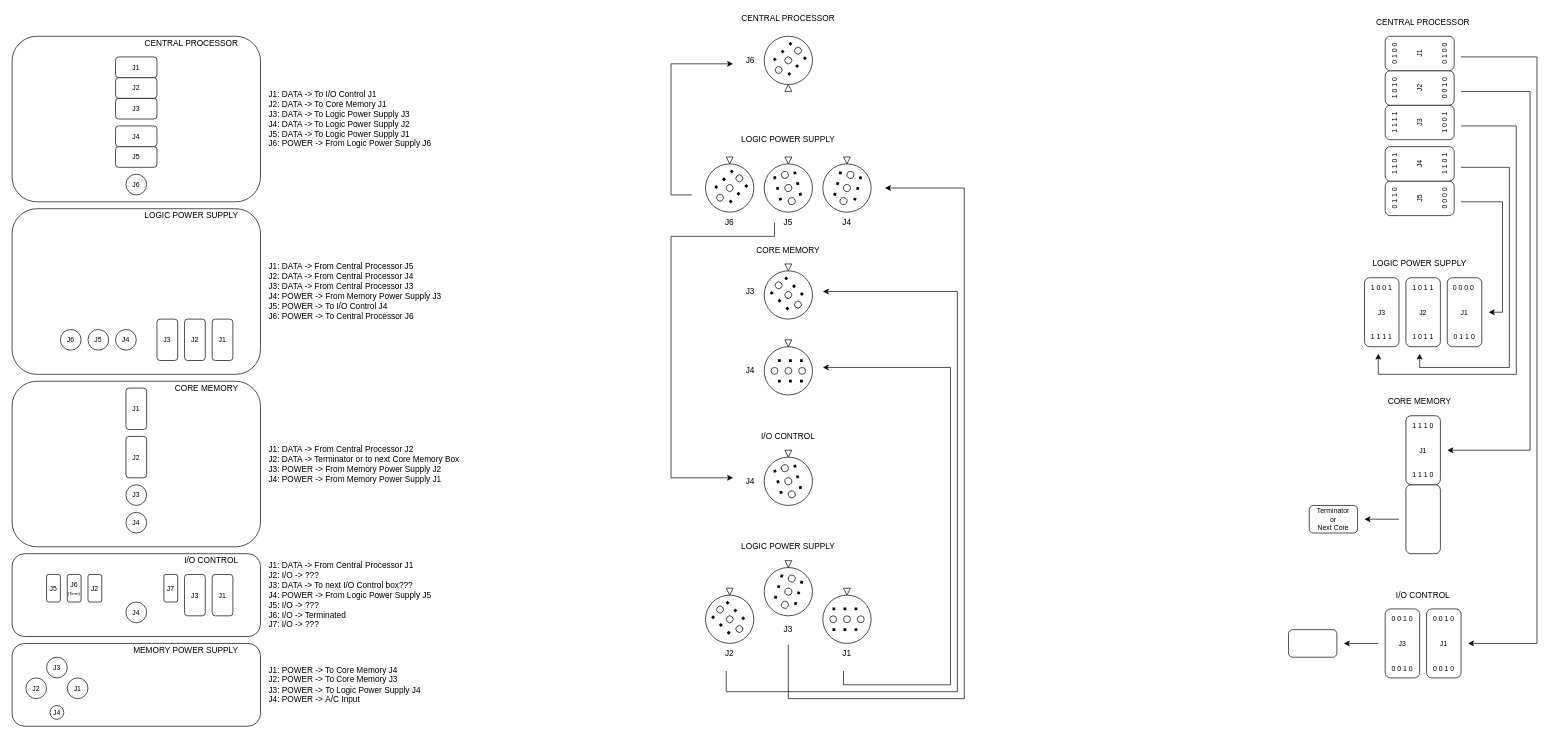
This 1555x738 diagram has some shape labels left out. The box of each missing label's shape, as (x1, y1, x2, y2) in pixels:
1 1 1 0 J2 1 1 1 0: (1405, 484, 1440, 554)
Next I/O Box?: (1288, 629, 1337, 657)
